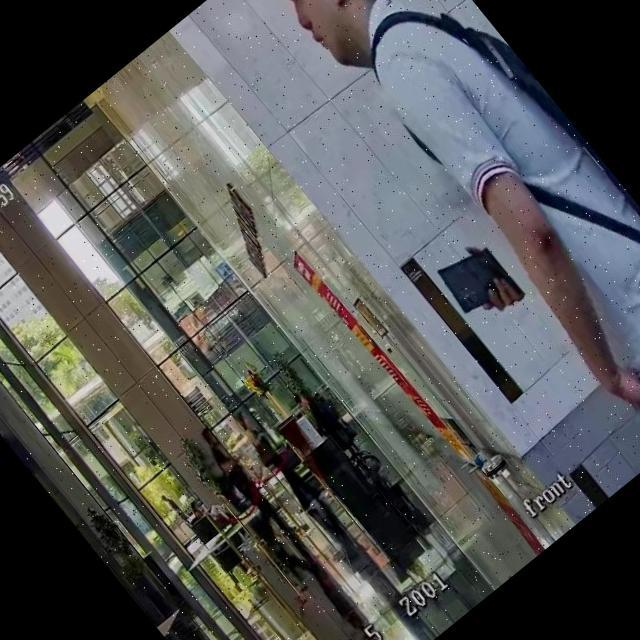person: (249, 0, 640, 463), (193, 424, 302, 551), (228, 401, 329, 515), (290, 382, 348, 446), (188, 485, 240, 540), (160, 490, 208, 546)
